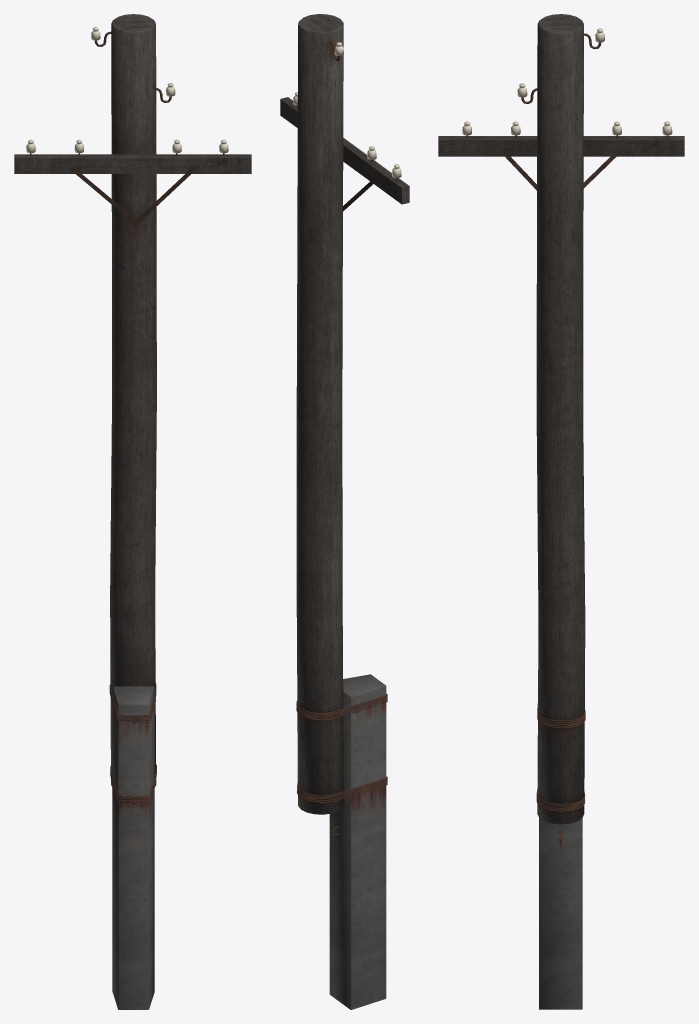
The model's file is Wooden Utility pole.glb.
The picture shows the model from 3 angles, left to right: view 1: azimuth 90°, elevation 25°; view 2: azimuth 210°, elevation 25°; view 3: azimuth 270°, elevation 25°; orthographic projection. The views are drawn at different scales.
Parts seen in each view (by area): view 1: STOLB, STOLB_LOW, WOOD, WOOD_LITTLE; view 2: STOLB, STOLB_LOW, WOOD, PROVOLOKA_UP, PROVOLOKA_UP:001; view 3: STOLB, STOLB_LOW, WOOD.
Boxes of the visible parts, x1,y1,x2,y2 form: STOLB: (110,14,156,787); STOLB_LOW: (112,686,154,1009); WOOD: (14,154,251,173); WOOD_LITTLE: (71,167,195,226); STOLB: (296,14,343,814); STOLB_LOW: (329,674,386,1009); WOOD: (280,97,409,204); PROVOLOKA_UP: (296,693,387,720); PROVOLOKA_UP:001: (297,776,387,803); STOLB: (536,14,585,824); STOLB_LOW: (539,818,582,1009); WOOD: (438,136,684,156).
Bounding box in the file's own units: 0.689 × 7.61 × 1.71.
1 material, 1 textured.
